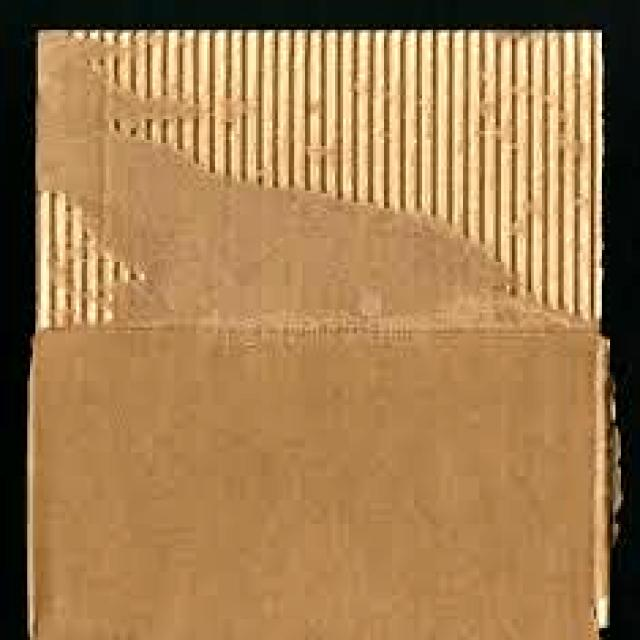Cardboard: (26, 21, 614, 640)
